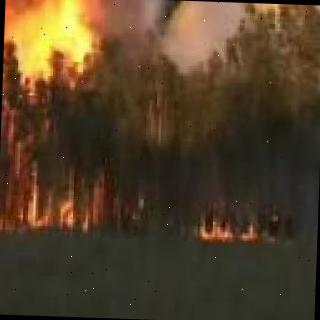fire: (0, 0, 102, 227), (198, 210, 267, 243)
